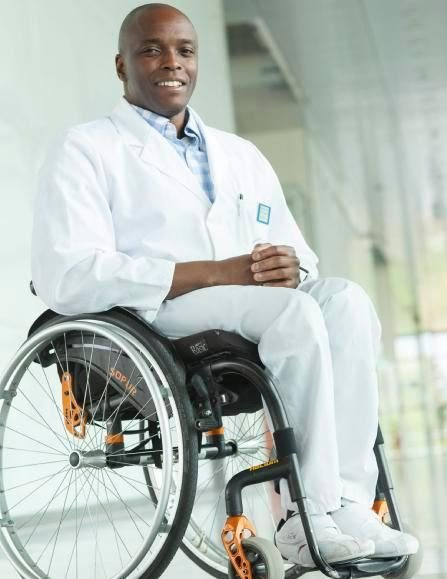wheelchair: (2, 3, 422, 579)
